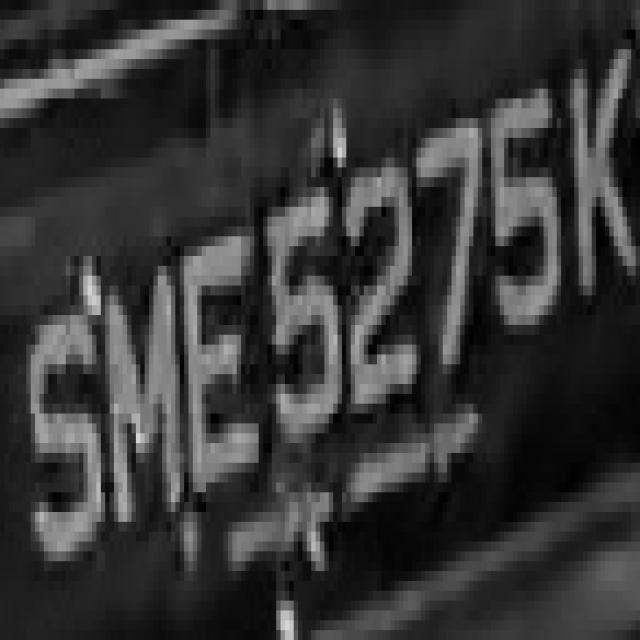2: (338, 118, 430, 443)
5: (478, 69, 570, 354), (259, 167, 346, 463)
7: (412, 69, 487, 394)
E: (171, 206, 259, 532)
K: (552, 29, 640, 325)
M: (101, 236, 193, 542)
S: (22, 285, 105, 581)
